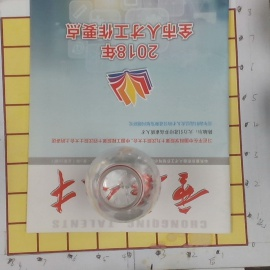bottle: (89, 147, 161, 221)
